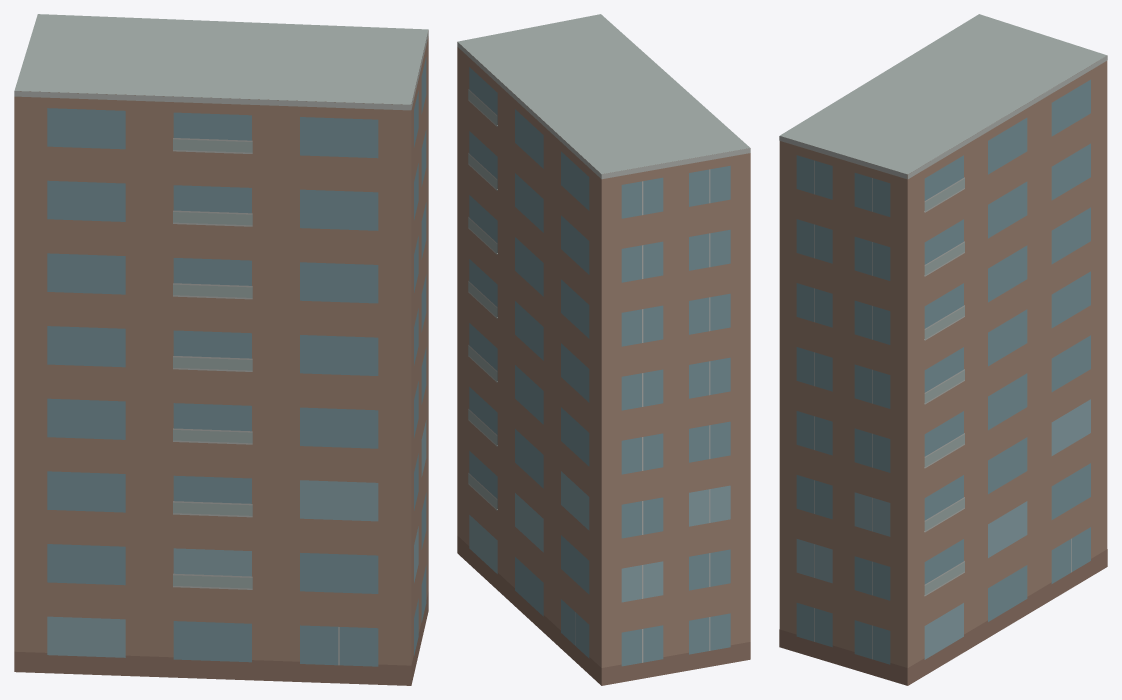
The model's file is survey-upis-32891938.glb.
The picture shows the model from 3 angles, left to right: view 1: azimuth 30°, elevation 25°; view 2: azimuth 150°, elevation 25°; view 3: azimuth 270°, elevation 25°; orthographic projection. The views are drawn at different scales.
Visible parts, largest first — view 1: survey-upis-32891938.tmp; view 2: survey-upis-32891938.tmp; view 3: survey-upis-32891938.tmp.
Part boxes in pixels (bbox=[...]): survey-upis-32891938.tmp: bbox=[14, 14, 428, 685]; survey-upis-32891938.tmp: bbox=[457, 14, 750, 685]; survey-upis-32891938.tmp: bbox=[779, 14, 1107, 685].
Bounding box in the file's own units: 16.76 × 24.9 × 14.48.
